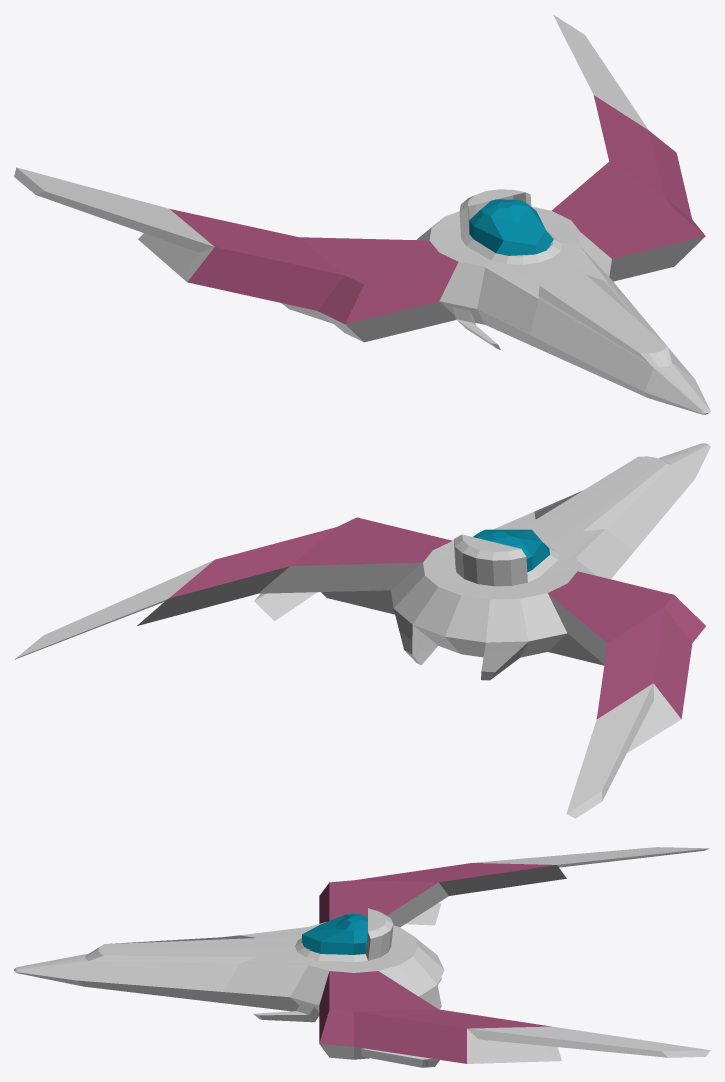
Rendered from arwinginspdspaceship-199543.glb.
3 views of the same model, one above another, from view 1: azimuth 30°, elevation 25°; view 2: azimuth 150°, elevation 25°; view 3: azimuth 270°, elevation 25° (orthographic). The views are drawn at different scales.
Visible parts, largest first — view 1: Torus; view 2: Torus; view 3: Torus.
Boxes of the visible parts, left/top/right/bottom form: Torus: left=14, top=14, right=710, bottom=414; Torus: left=15, top=443, right=710, bottom=818; Torus: left=14, top=847, right=710, bottom=1067.
Bounding box in the file's own units: 5.03 × 0.8653 × 6.54.
